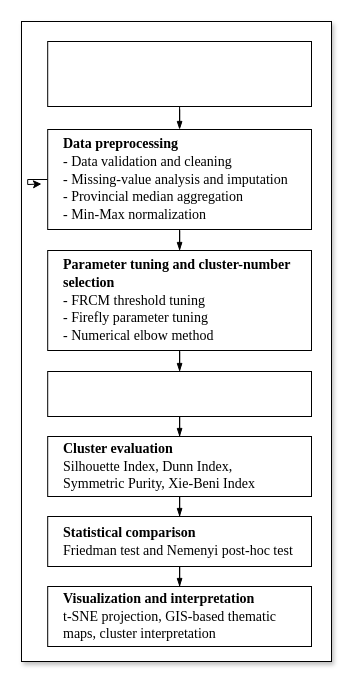
This 355x686 diagram has some shape labels left out. Each missing label, with the centre of its shape:
Repeated clustering (100 runs/method) K-Means, FCM, FRCM, FA-FRCM: (x=179, y=393)
SIPSN waste data Regency/city records, 2019–2025: (x=179, y=73)
